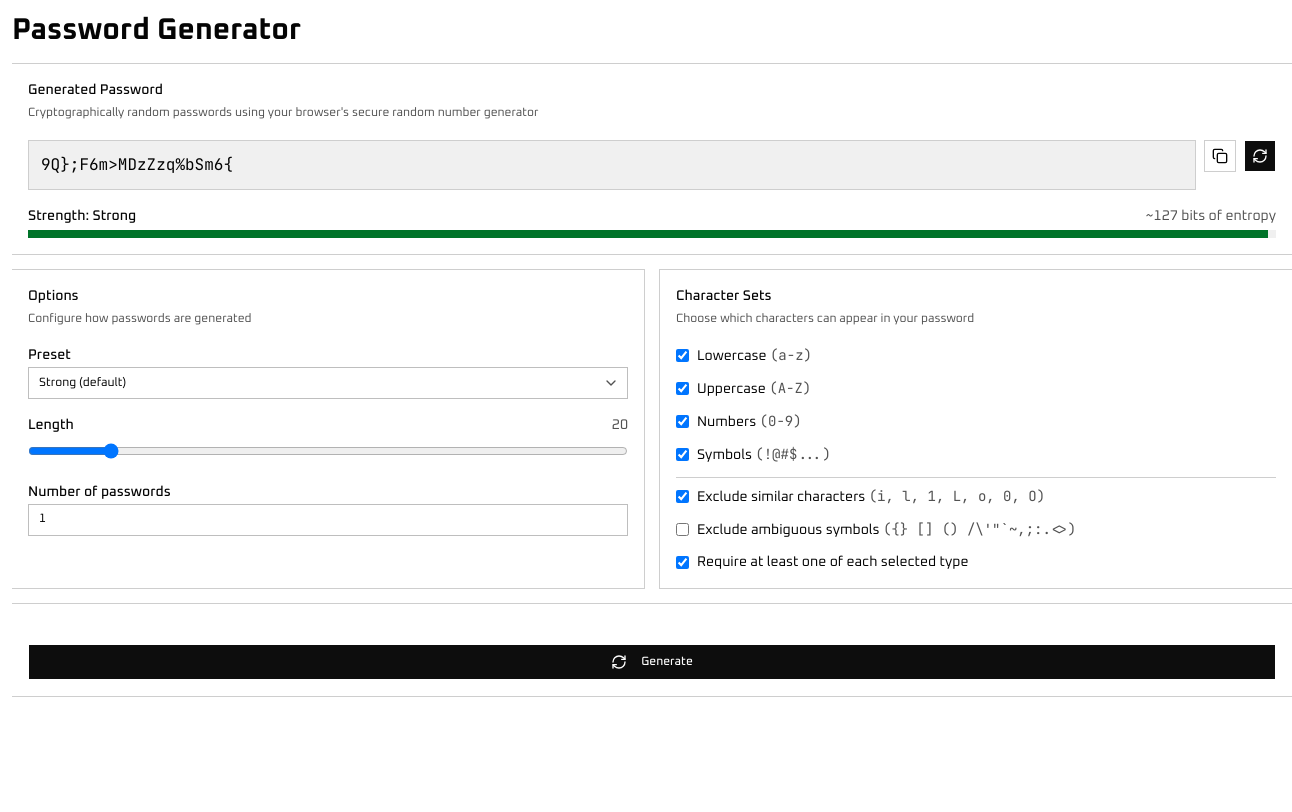
PasswordGeneratorPage › shows an error when all character sets are disabled
This screenshot has width=1292, height=812.
Click the checkbox labelled "Lowercase (a-z)".
click(682, 356)  # box x1=676 y1=349 x2=689 y2=362
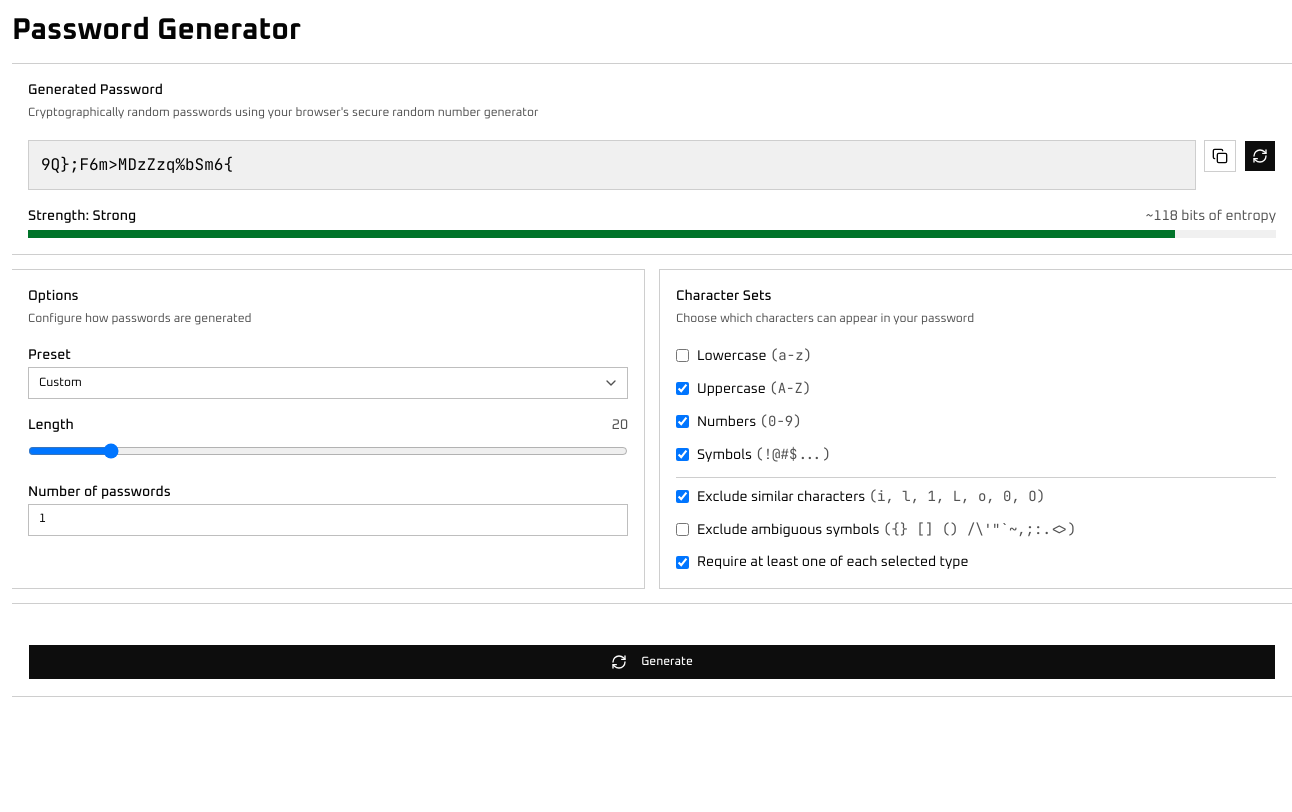
Click the checkbox labelled "Uppercase (A-Z)".
click(682, 388)  # box x1=676 y1=382 x2=689 y2=395
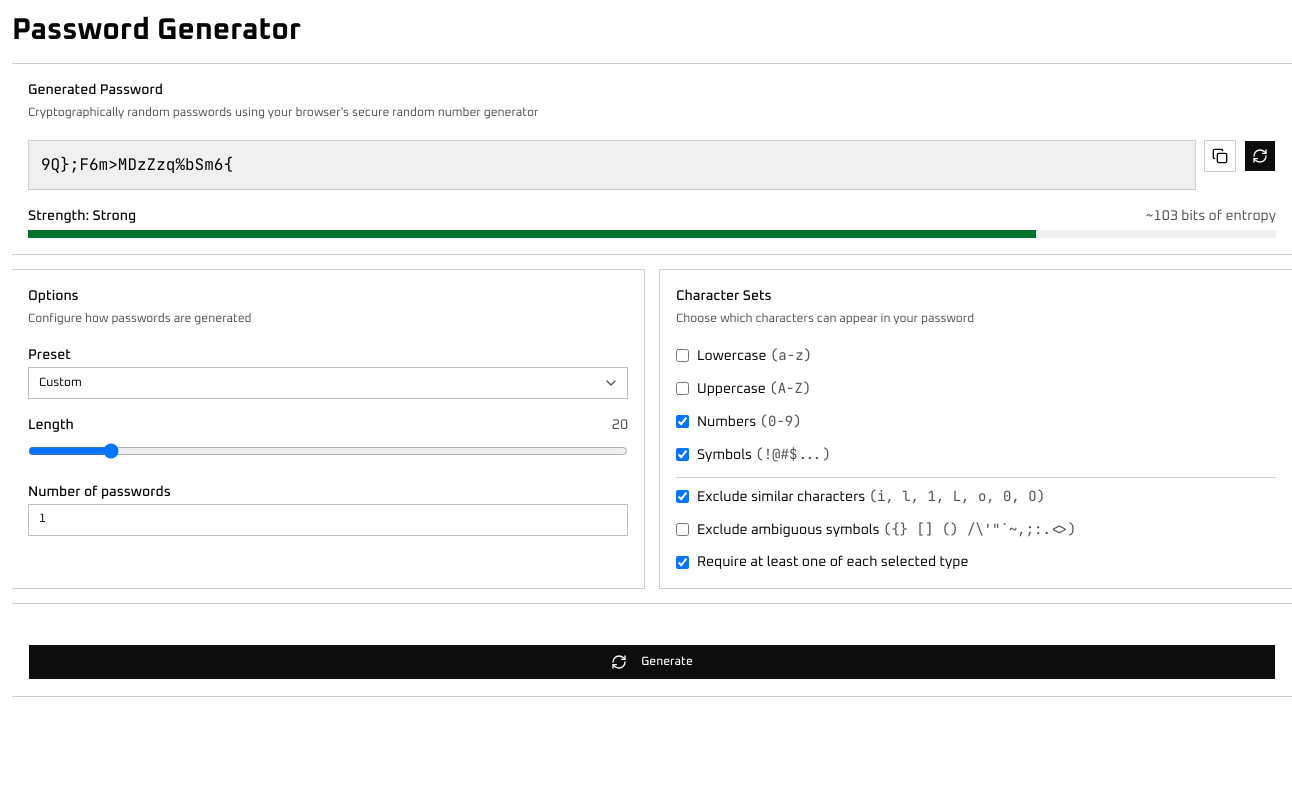
Click the checkbox labelled "Numbers (0-9)".
click(682, 422)  # box x1=676 y1=415 x2=689 y2=428
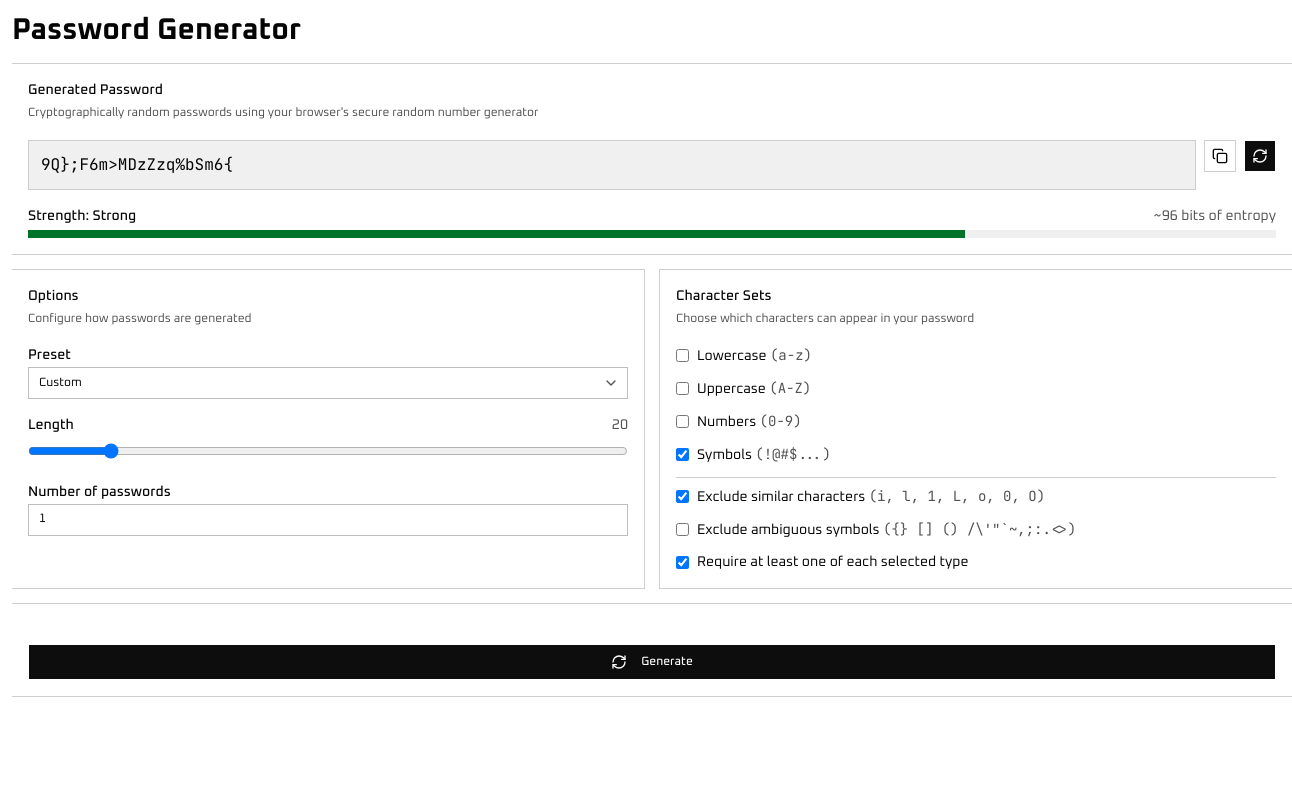
Click the checkbox labelled "Symbols (!@#$...)".
click(682, 454)  # box x1=676 y1=448 x2=689 y2=461
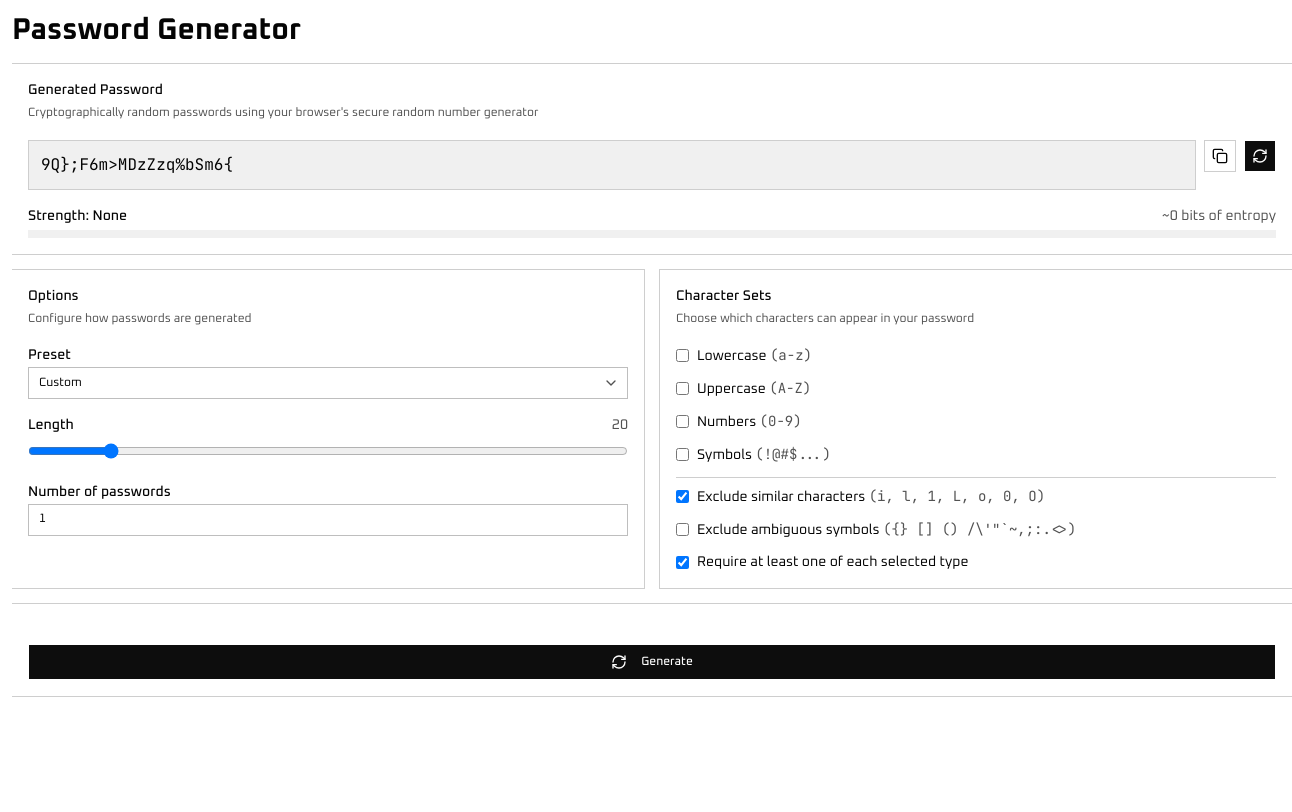
Click the button "Generate".
click(652, 662)  # box x1=28 y1=644 x2=1276 y2=680
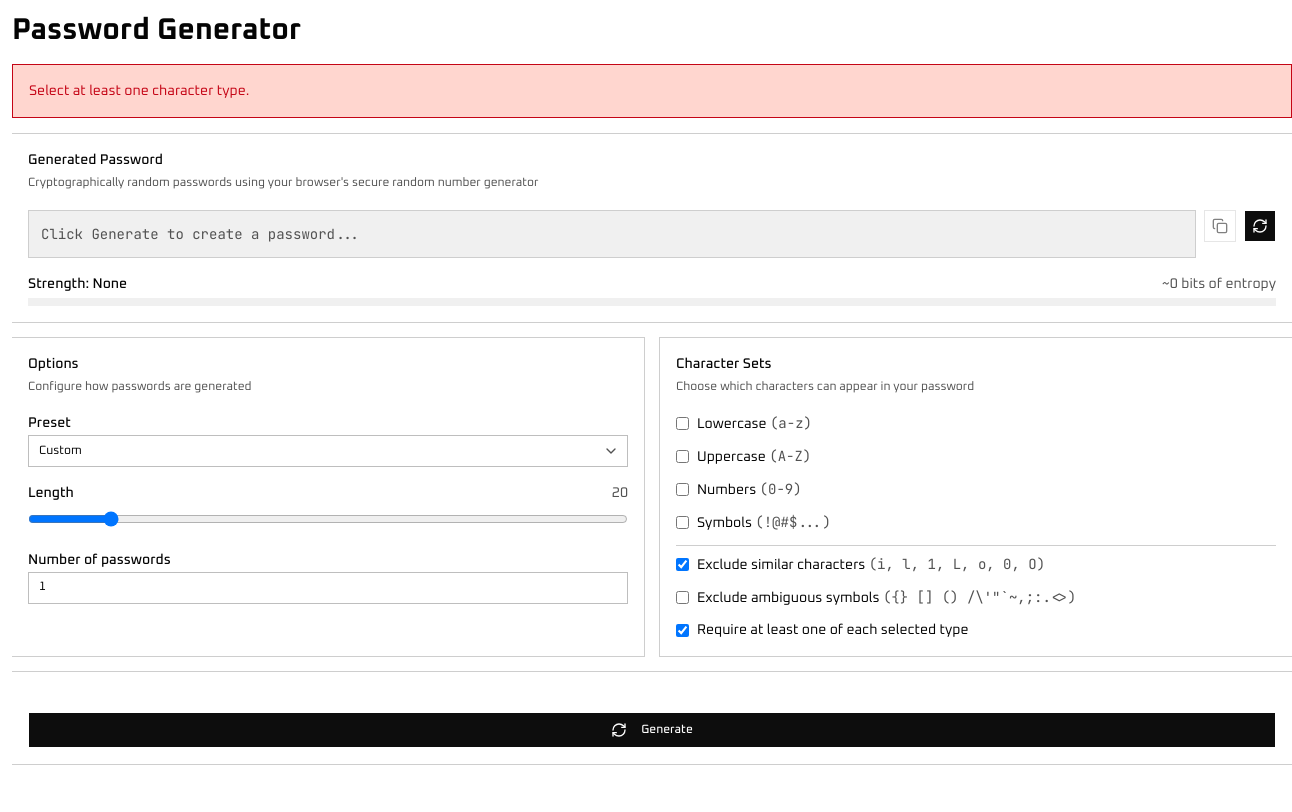
expect the text "Select at least one character type." is shown: met, box x1=29 y1=84 x2=249 y2=98
